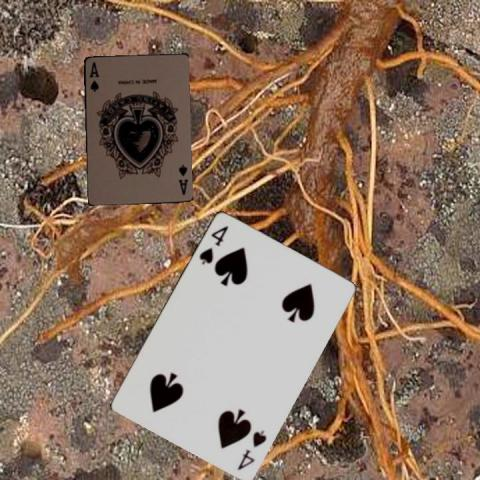4s: (234, 426, 268, 471), (196, 222, 230, 266)
As: (176, 161, 190, 197), (86, 58, 100, 92)
